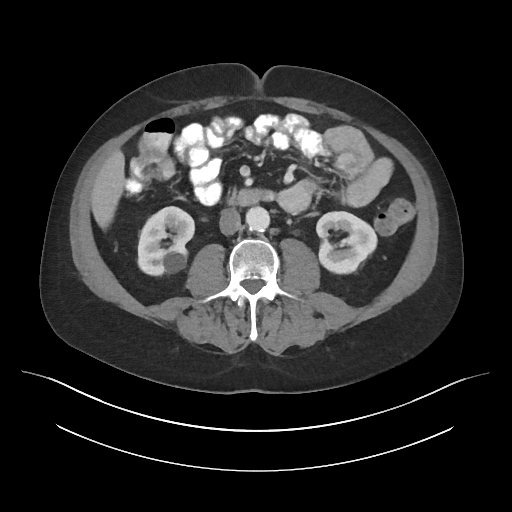Lesion: (161, 250, 187, 273)
